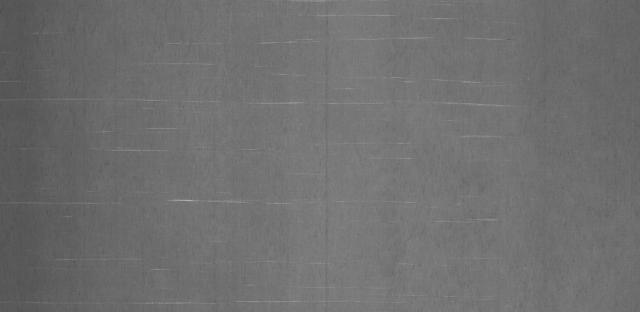waist_folding: (45, 18, 618, 291)
